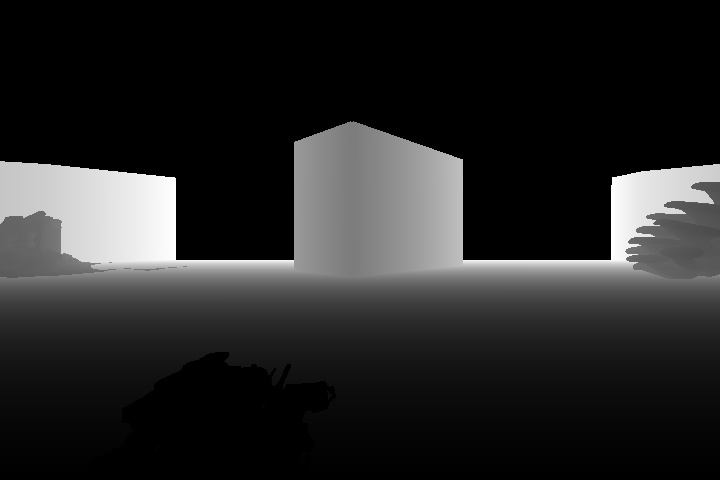glacier: (625, 180, 720, 281)
green rock: (1, 209, 111, 279)
